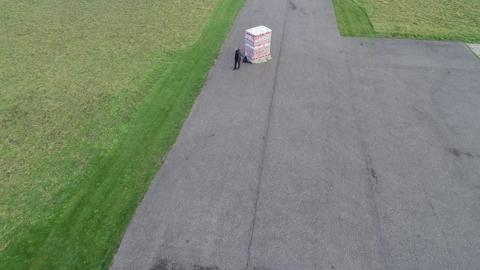RockwoolPallet: (245, 25, 271, 59)
